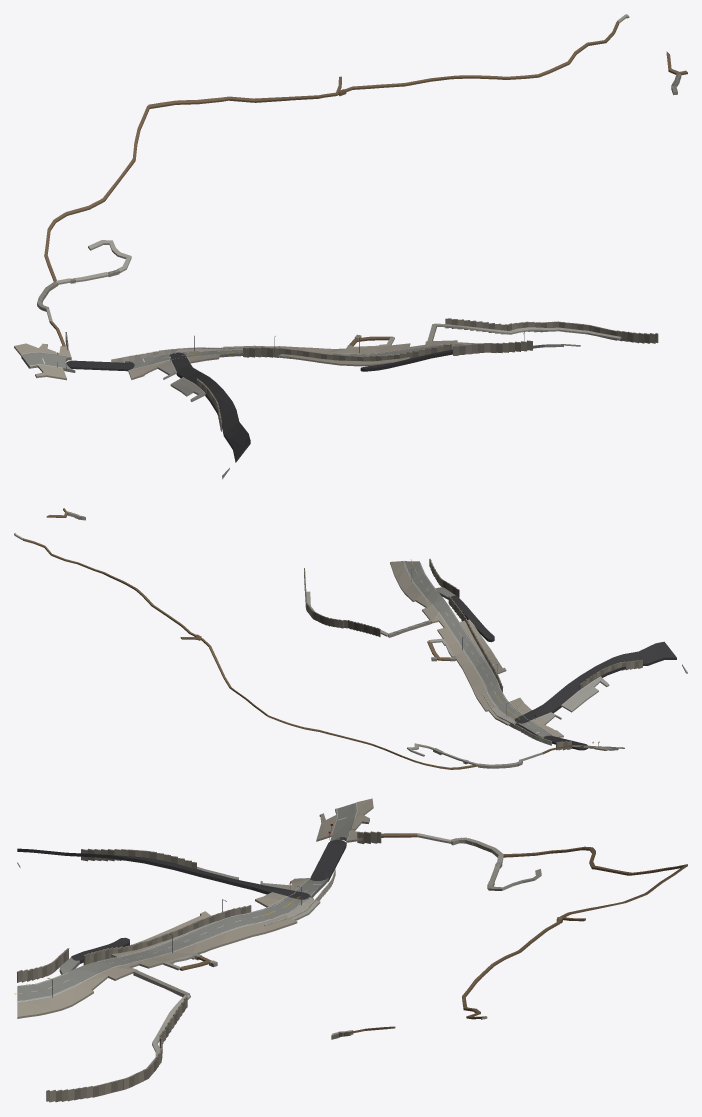
The model's file is 17-109425-59468.fefa07f5.glb.
The picture shows the model from 3 angles, top to bottom: view 1: azimuth 30°, elevation 25°; view 2: azimuth 150°, elevation 25°; view 3: azimuth 270°, elevation 25°; orthographic projection. The views are drawn at different scales.
Size of the model in its own units: 293 by 71.44 by 224.
